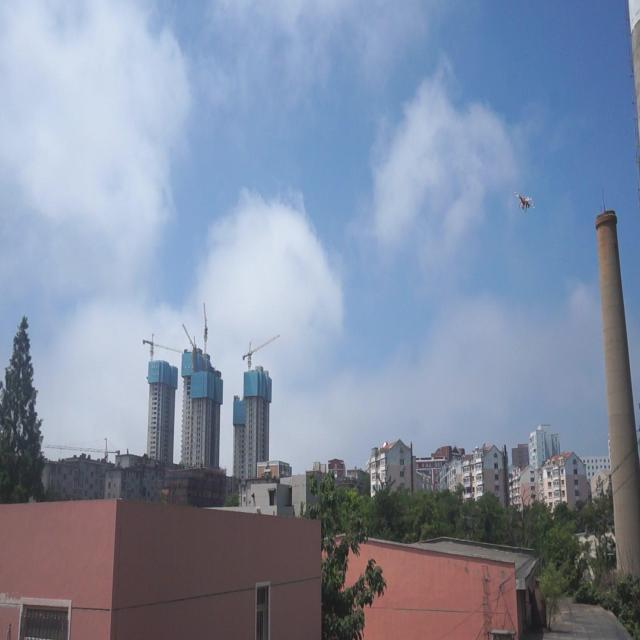drone: (514, 188, 536, 216)
